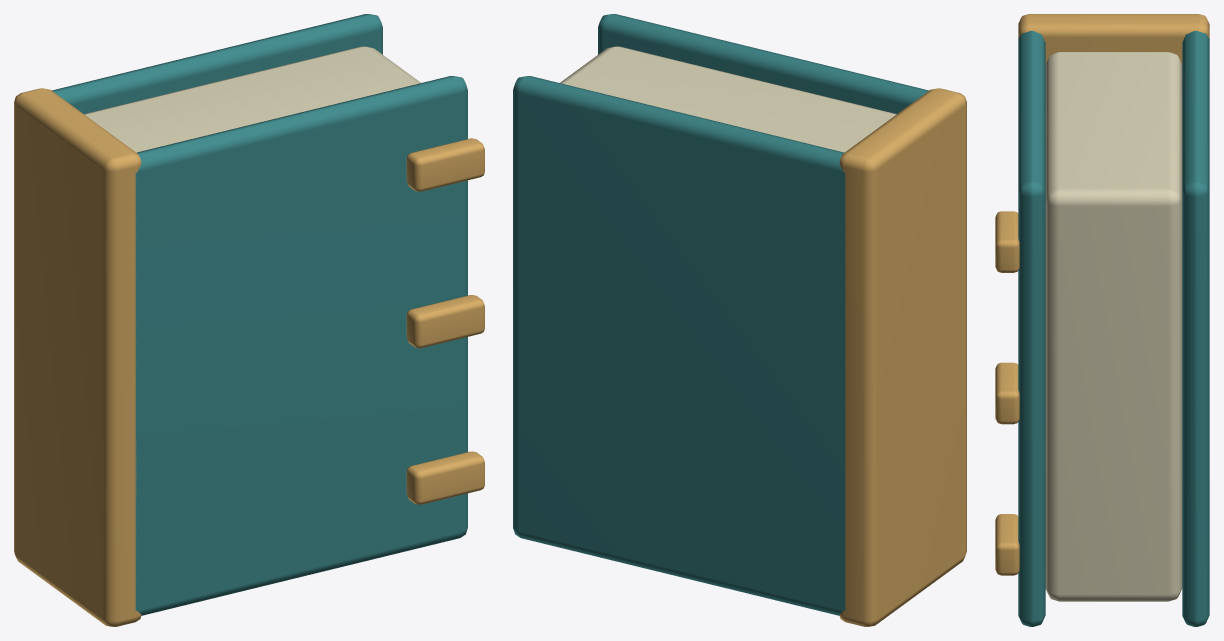
The model's file is relic-amberLedger.glb.
3 views of the same model, side by side, from view 1: azimuth 30°, elevation 25°; view 2: azimuth 150°, elevation 25°; view 3: azimuth 270°, elevation 25° (orthographic). The views are drawn at different scales.
Parts seen in each view (by area): view 1: relic-amberLedger / Paint | North Sea petrol, relic-amberLedger / Brass | machined champagne, relic-amberLedger / Ceramic | warm ivory; view 2: relic-amberLedger / Paint | North Sea petrol, relic-amberLedger / Brass | machined champagne, relic-amberLedger / Ceramic | warm ivory; view 3: relic-amberLedger / Ceramic | warm ivory, relic-amberLedger / Paint | North Sea petrol, relic-amberLedger / Brass | machined champagne.
Part boxes in pixels (x1,y1,x2,y2): relic-amberLedger / Paint | North Sea petrol: (52, 14, 467, 615); relic-amberLedger / Brass | machined champagne: (14, 88, 484, 626); relic-amberLedger / Ceramic | warm ivory: (84, 46, 420, 152); relic-amberLedger / Paint | North Sea petrol: (513, 14, 928, 615); relic-amberLedger / Brass | machined champagne: (839, 88, 966, 626); relic-amberLedger / Ceramic | warm ivory: (560, 46, 896, 152); relic-amberLedger / Ceramic | warm ivory: (1045, 52, 1182, 601); relic-amberLedger / Paint | North Sea petrol: (1018, 31, 1209, 626); relic-amberLedger / Brass | machined champagne: (995, 14, 1209, 575).
Bounding box in the file's own units: 1.35 × 1.65 × 0.705.
